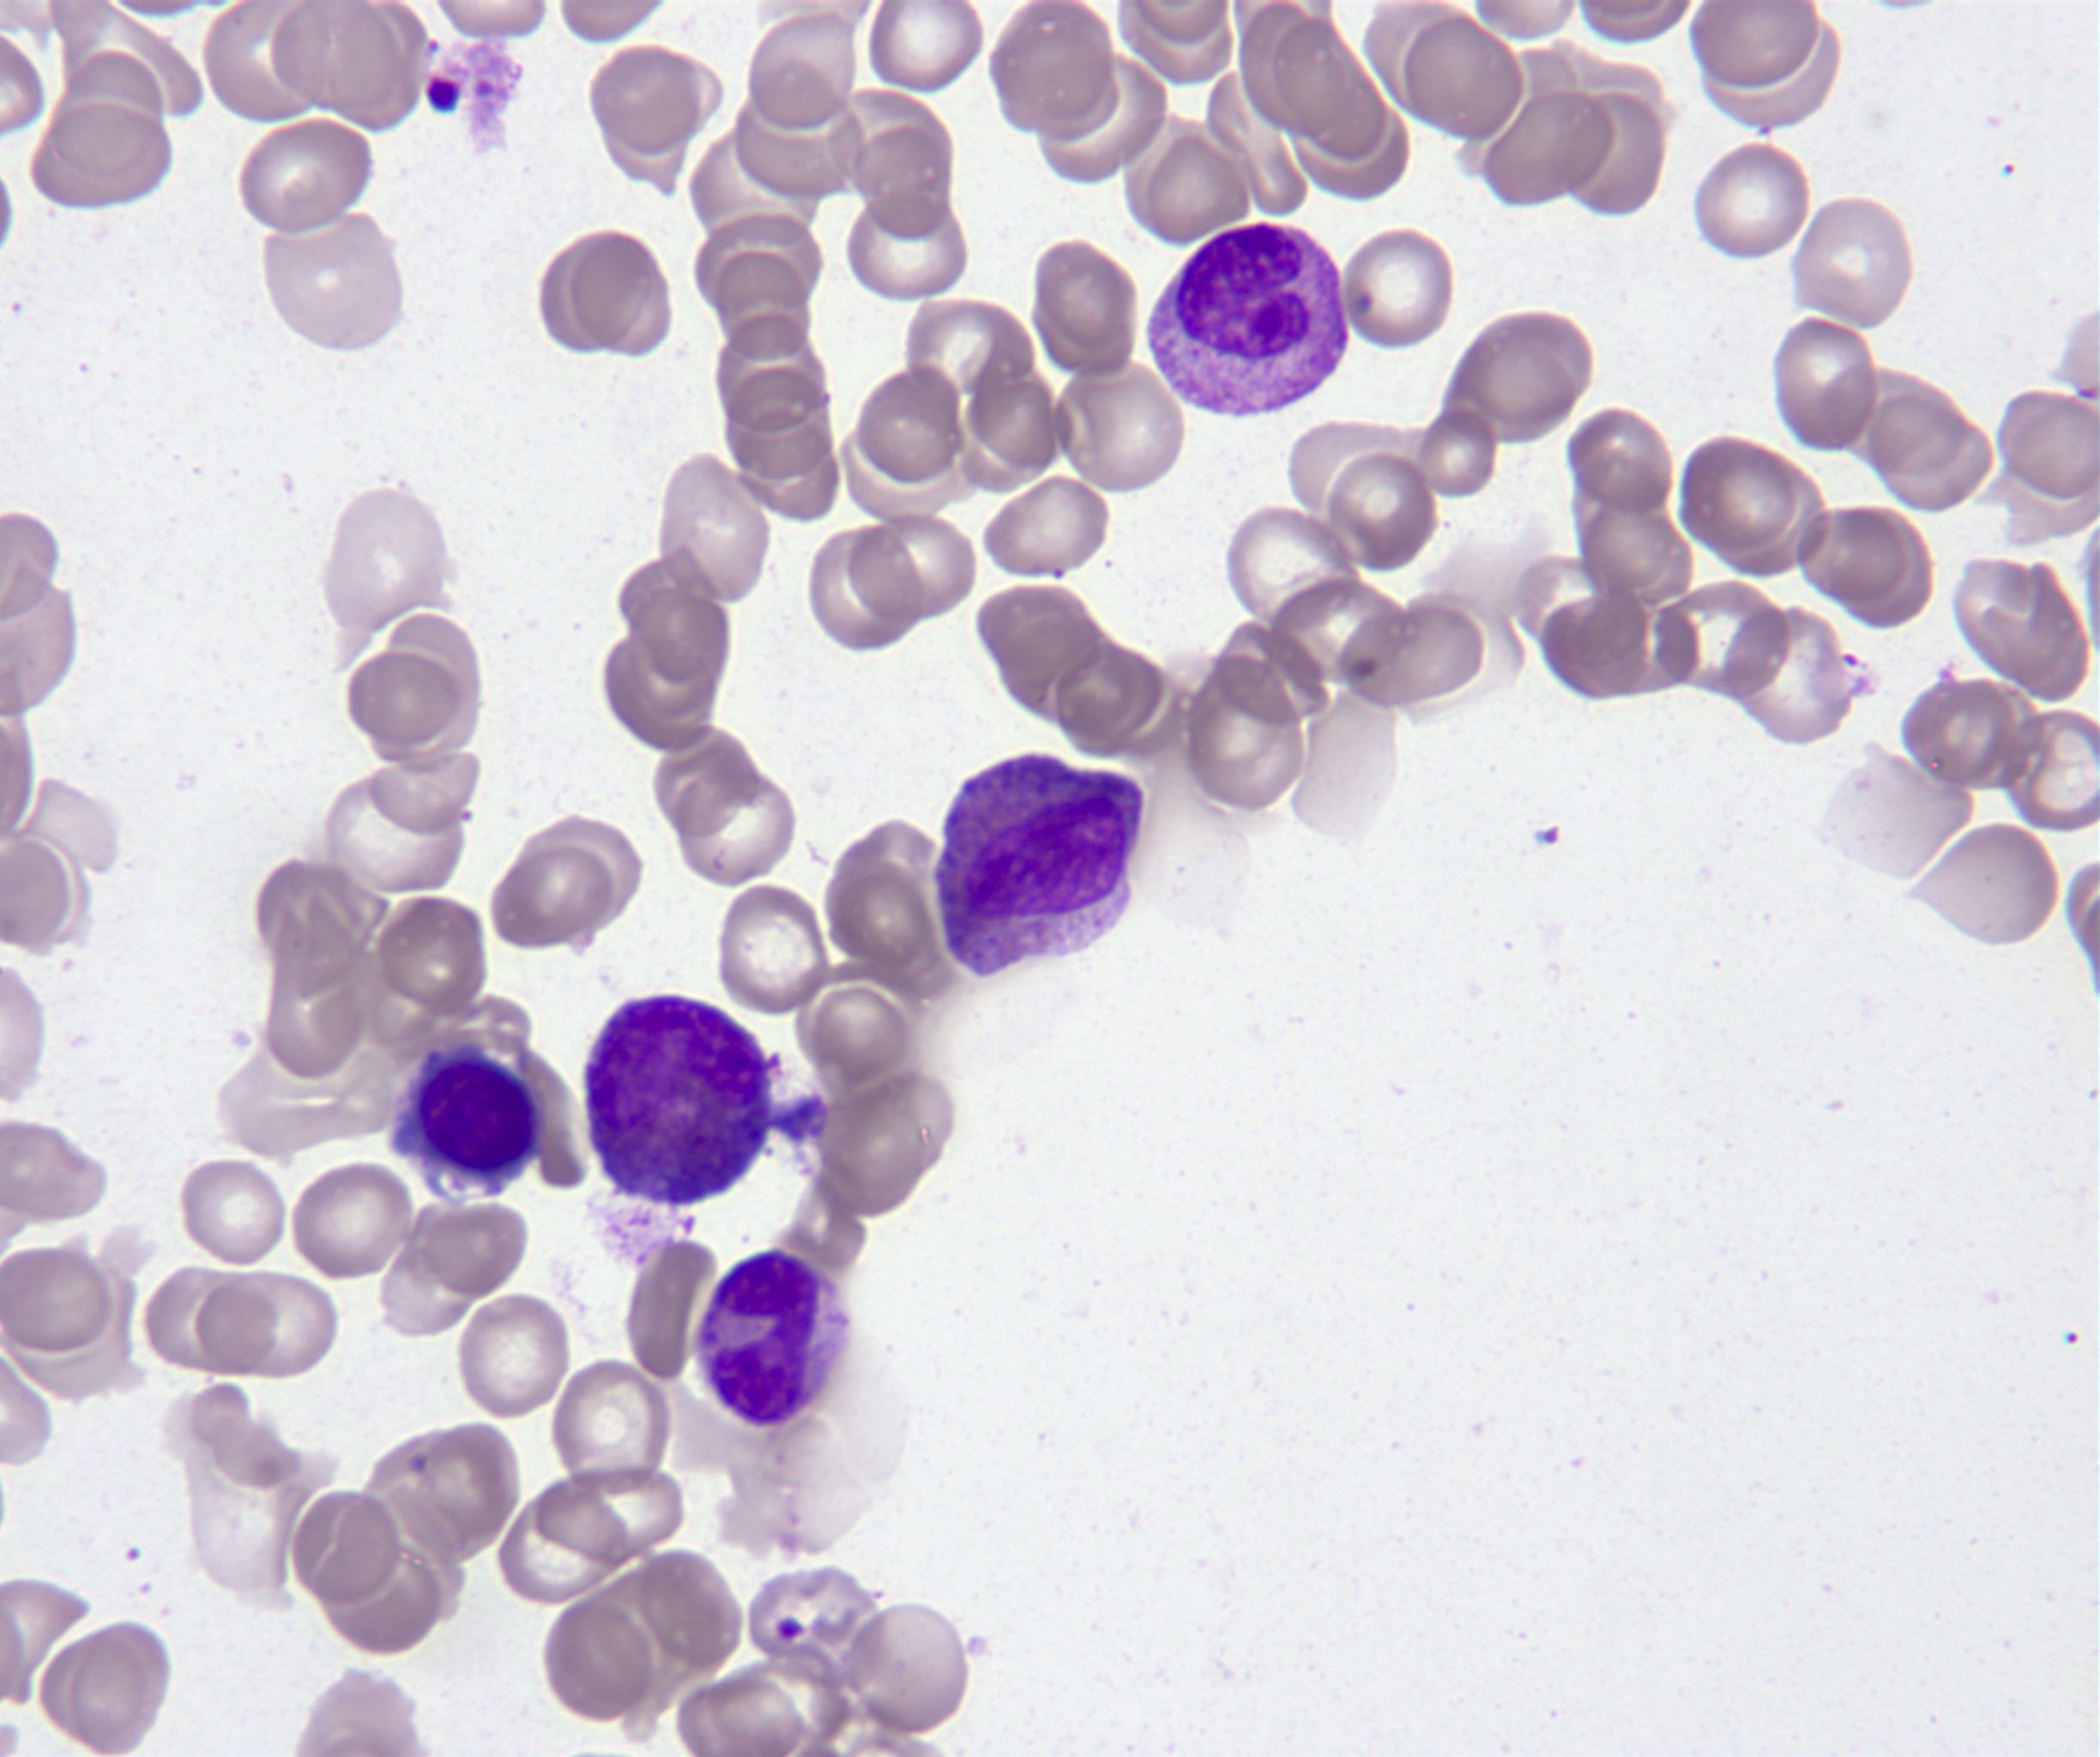24: (391, 1045, 542, 1204)
5: (1148, 223, 1347, 419), (687, 1249, 846, 1427)
E1: (935, 752, 1141, 979)
E2: (586, 996, 771, 1206)
